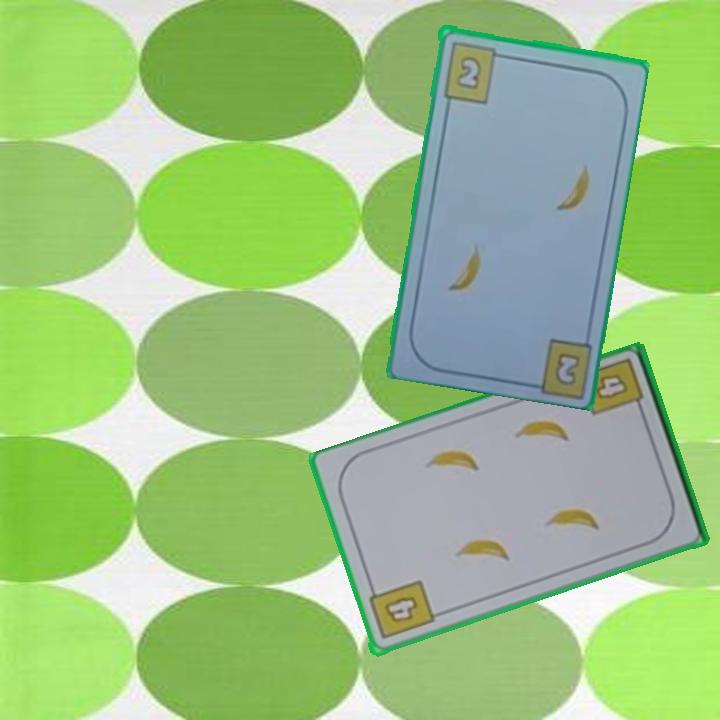2b: (439, 37, 508, 105), (551, 348, 583, 389)
4b: (364, 577, 437, 643), (591, 370, 631, 403)
